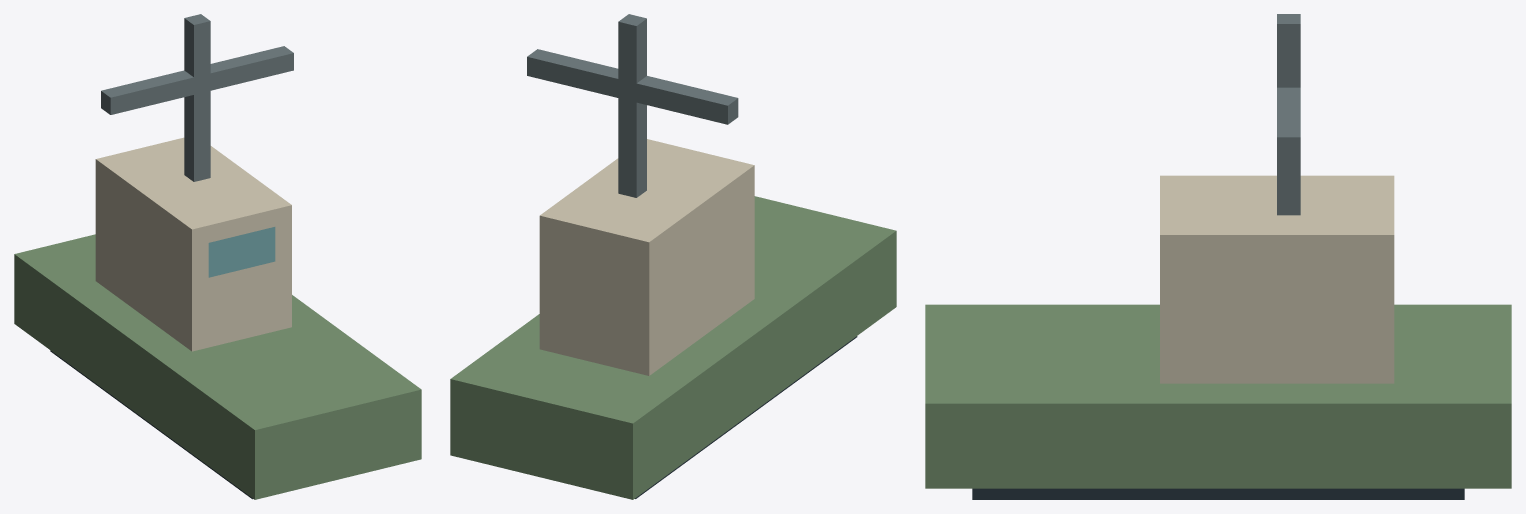
File: climate-08.glb
3 renders of one model, left to right at view 1: azimuth 30°, elevation 25°; view 2: azimuth 150°, elevation 25°; view 3: azimuth 270°, elevation 25°, orthographic. The views are drawn at different scales.
Parts seen in each view (by area): view 1: Research boat; view 2: Research boat; view 3: Research boat.
Part boxes in pixels (x1,y1,x2,y2): Research boat: (14, 14, 421, 499); Research boat: (450, 14, 896, 499); Research boat: (925, 14, 1511, 499).
Bounding box in the file's own units: 0.88 × 1.68 × 2.
